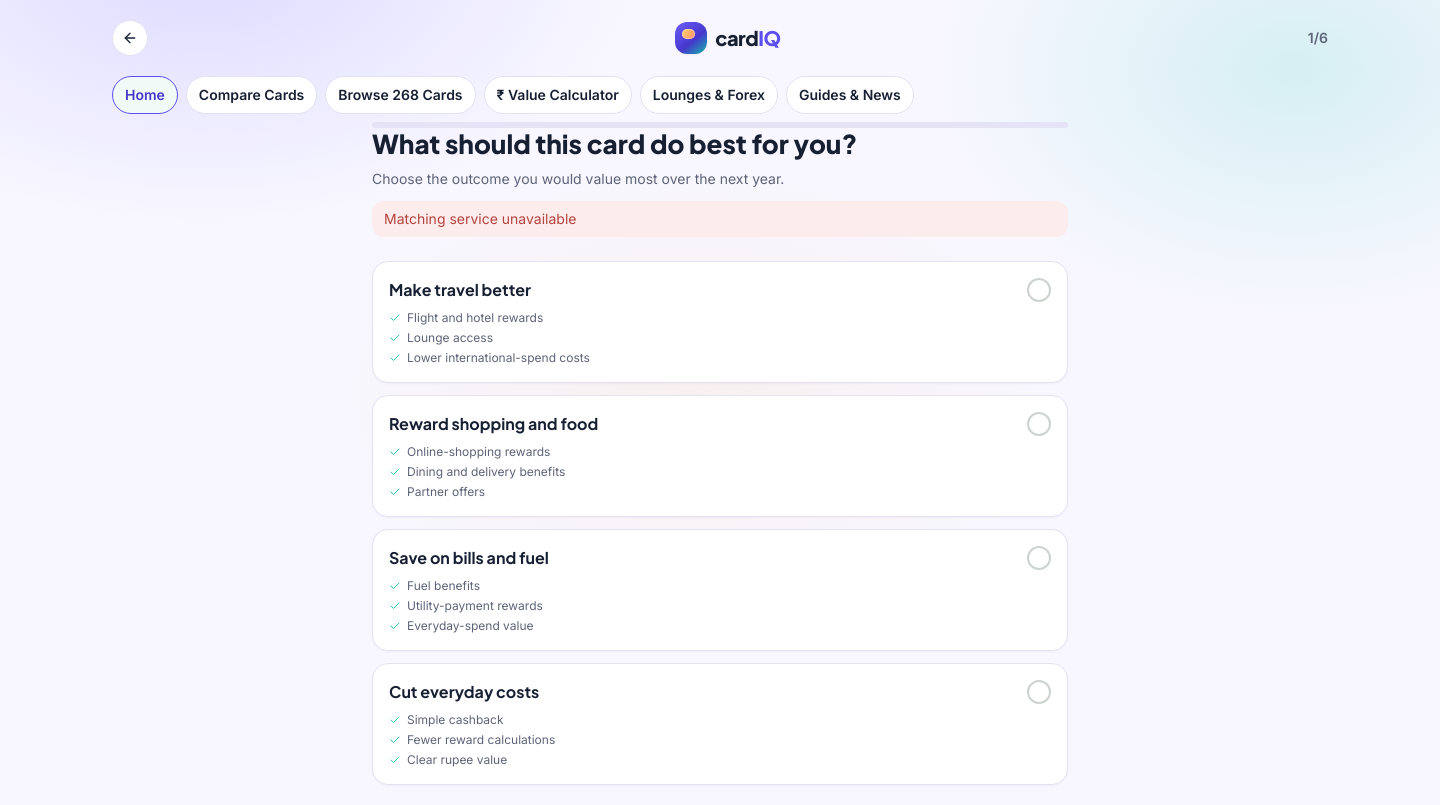
Test: Quiz journey › shows a matching-service error without blocking answer selection
The width and height of the screenshot is (1440, 805).
Click the button that starts with "Cut everyday costs" at (464, 691), box [372, 662, 1068, 784]
Wait 361 ms
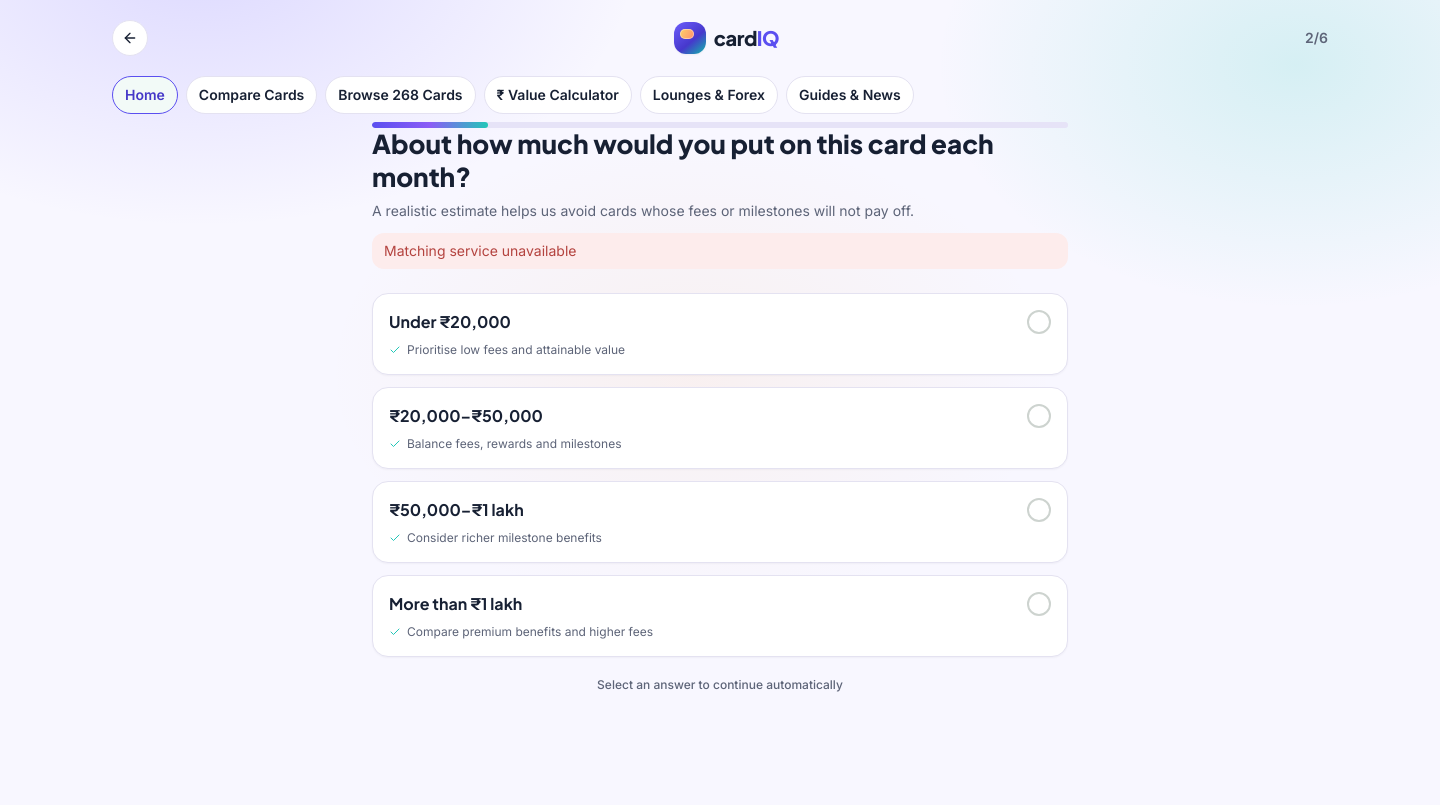
Expected: the text "2/6" is shown, [1305, 28, 1328, 48]
